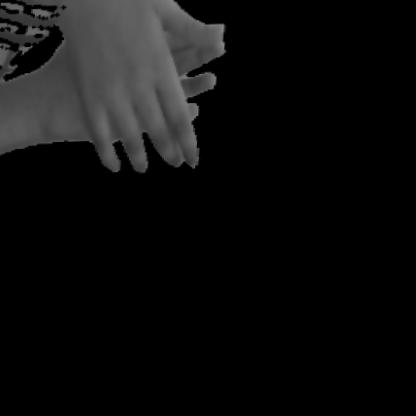clap: (38, 0, 243, 181)
